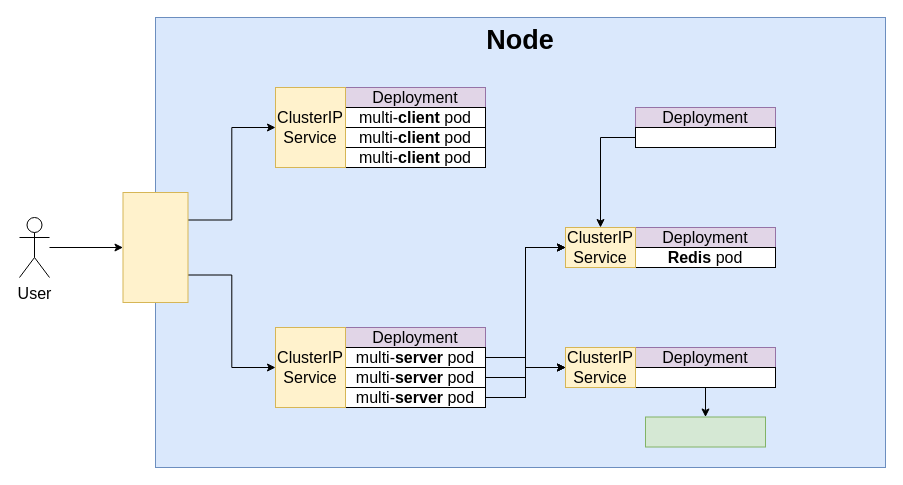
Image size: 903x485. Some labels were removed from this diagram. The centre of each missing label's shape, as x and y in pixels:
Ingress Service: point 155,247
multi- worker pod: point 705,137
Postgres pod: point 705,377
Postgres PVC: point 705,431
